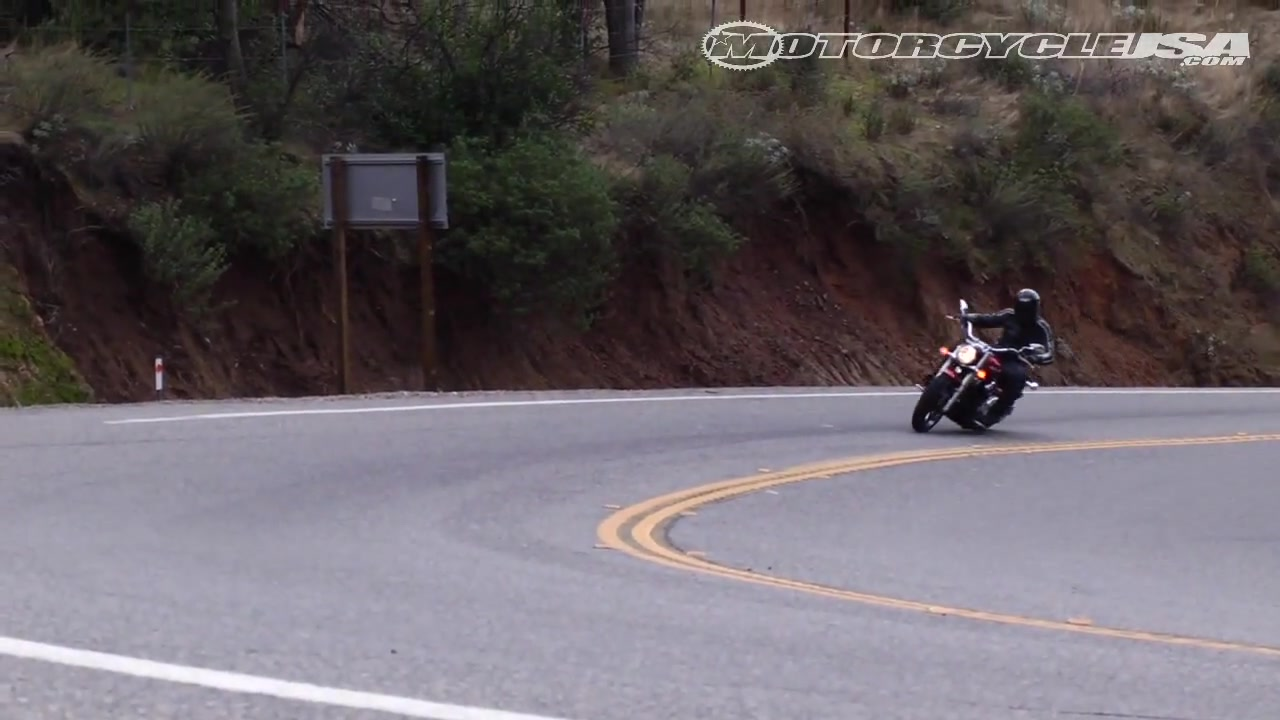motorbike: (912, 301, 1047, 438)
